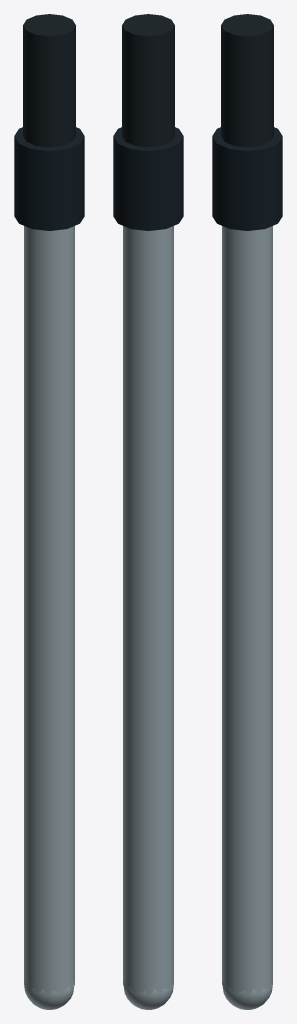
File: probe-low.glb
3 views of the same model, side by side, from view 1: azimuth 30°, elevation 25°; view 2: azimuth 150°, elevation 25°; view 3: azimuth 330°, elevation 25° (orthographic).
Parts seen in each view (by area): view 1: stainless-steel, matte-polymer, black-anodised; view 2: stainless-steel, matte-polymer, black-anodised; view 3: stainless-steel, matte-polymer, black-anodised.
Part boxes in pixels (x1=…): stainless-steel: x1=24, y1=226, x2=74, y2=1009; matte-polymer: x1=23, y1=14, x2=75, y2=147; black-anodised: x1=14, y1=127, x2=84, y2=230; stainless-steel: x1=123, y1=226, x2=173, y2=1009; matte-polymer: x1=122, y1=14, x2=174, y2=147; black-anodised: x1=113, y1=127, x2=183, y2=230; stainless-steel: x1=222, y1=226, x2=272, y2=1009; matte-polymer: x1=221, y1=14, x2=273, y2=147; black-anodised: x1=212, y1=127, x2=282, y2=230.
Bounding box in the file's own units: 0.072 × 1.11 × 0.072.
